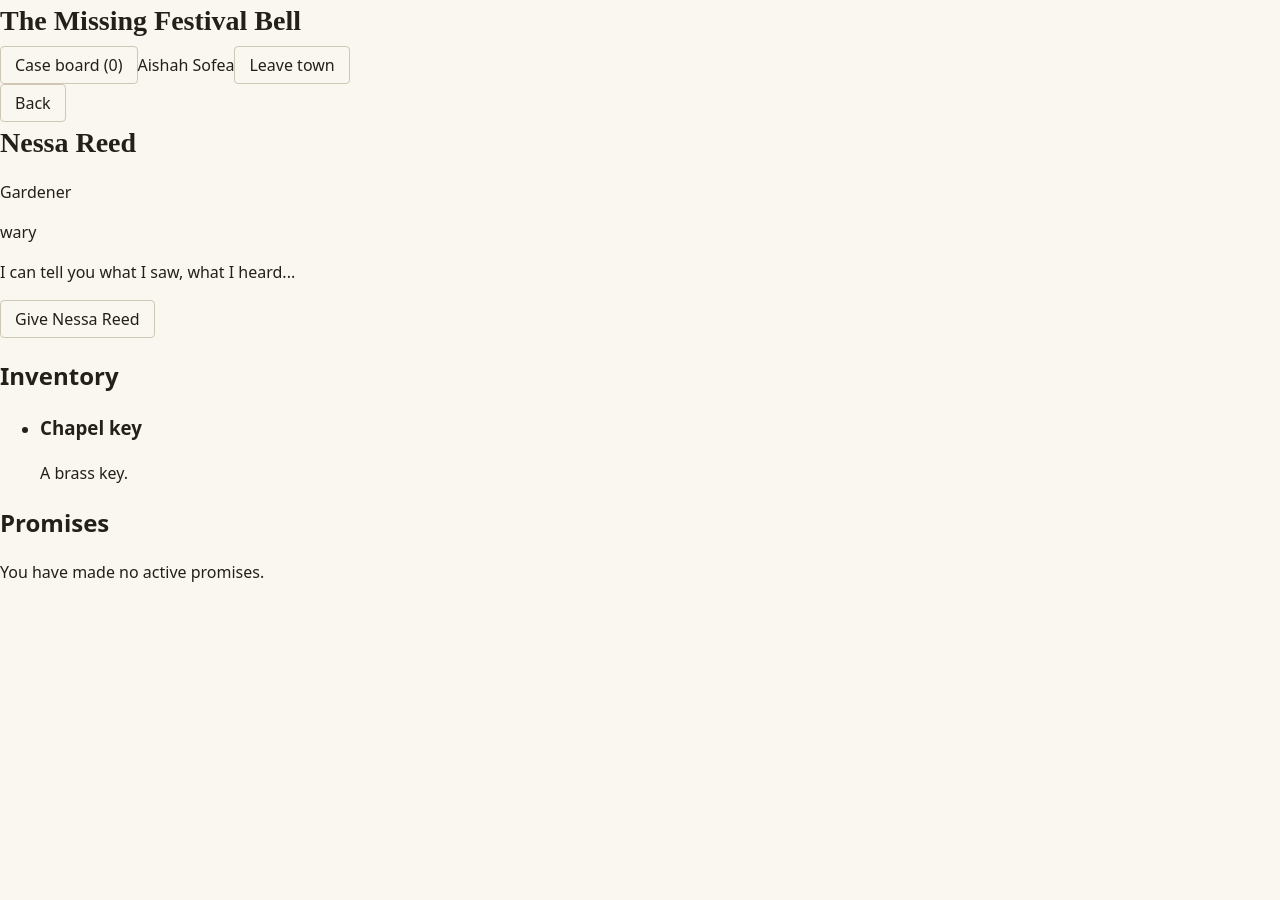
Test: Encounter — Give picker and custody-change confirmation (P4-20 acceptance 1) › Cancel from the confirm step returns to picking without submitting
Click the button "Give Nessa Reed" at [77, 319], box [0, 300, 155, 338]
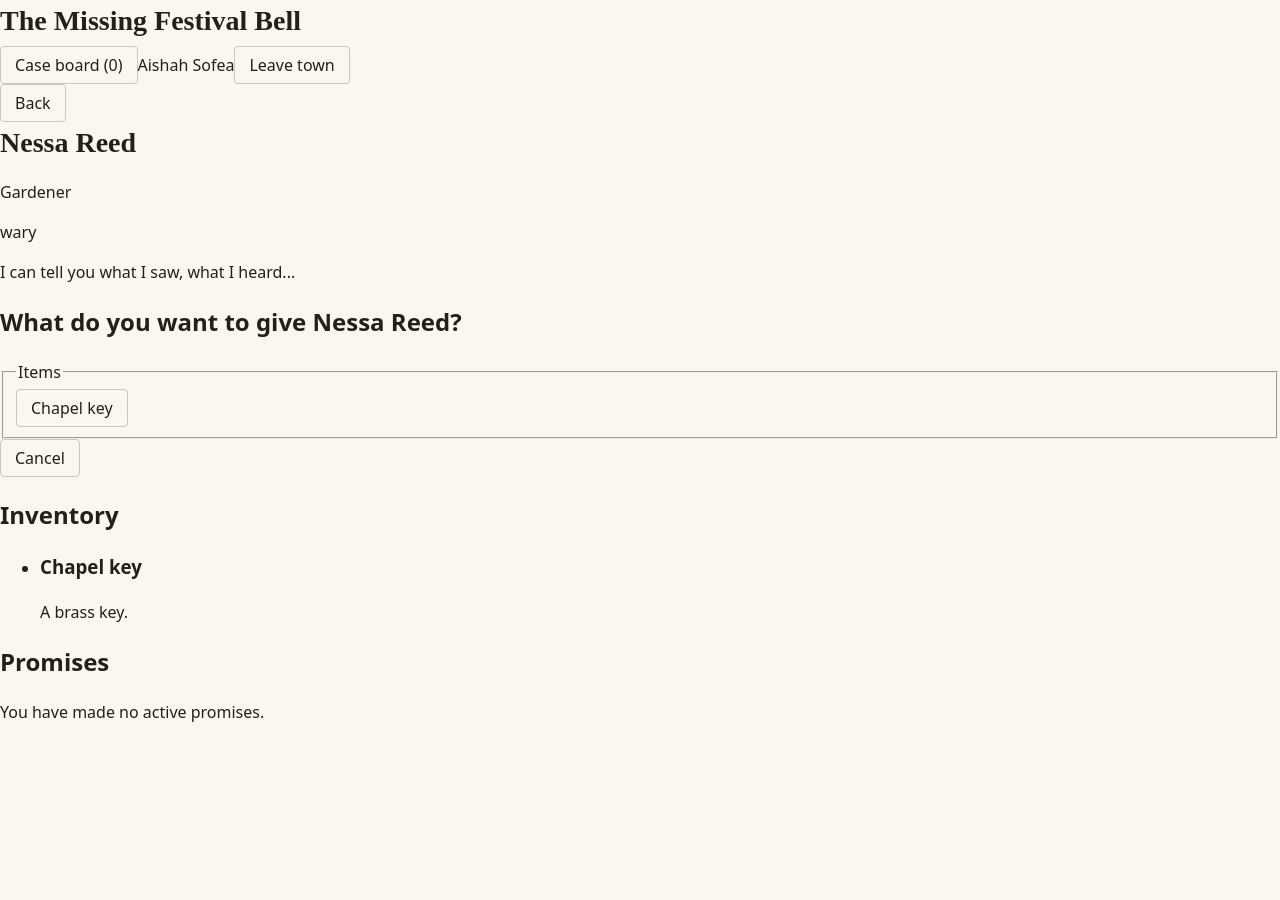
Click the button "Chapel key" at [72, 408], box [16, 389, 128, 427]
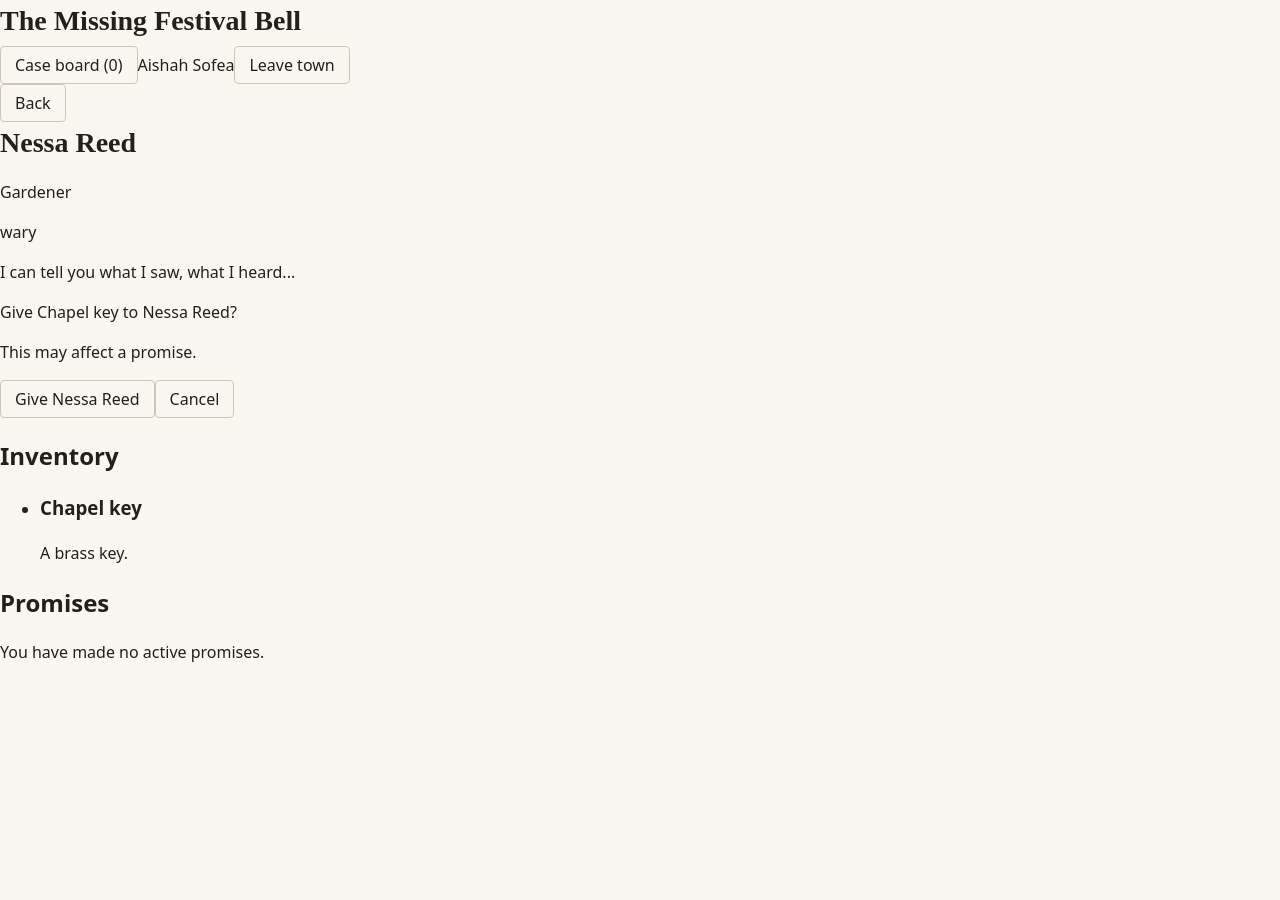
Result: the dialog named "Give this?" is shown at [0, 301, 237, 418]
Click the button "Cancel" at [194, 399], box [155, 380, 234, 418]
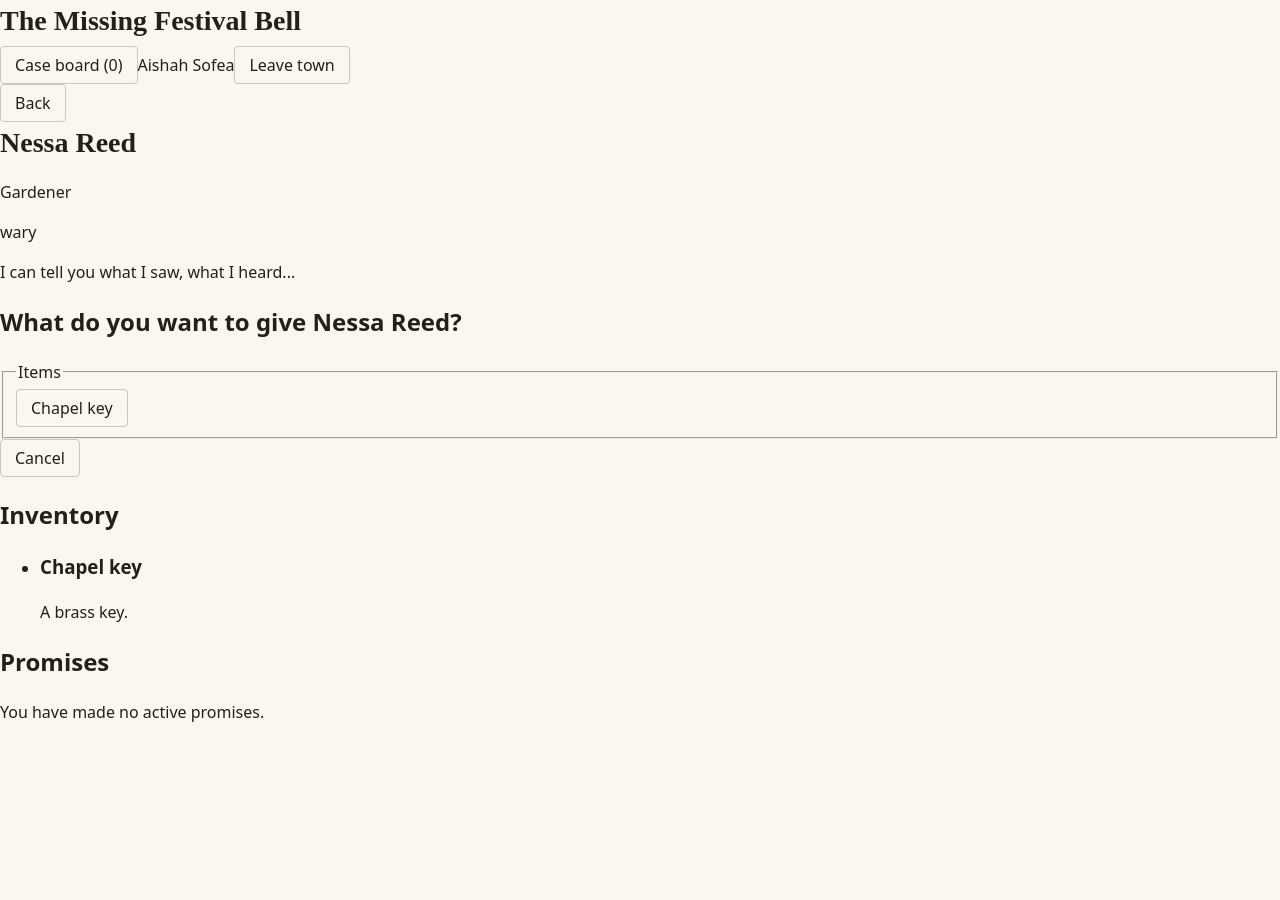
Result: the button "Chapel key" is shown at [16, 389, 128, 427]
